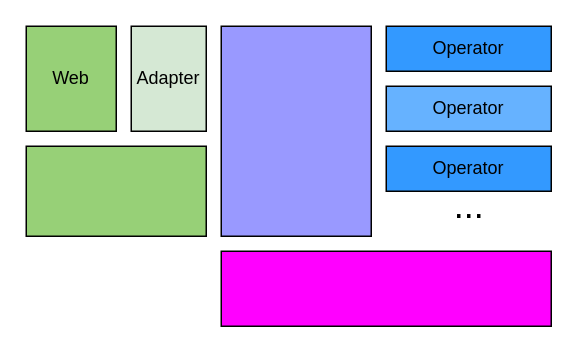
The diagram is 578 pixels wide and 353 high, and some of its shapes have lost their labels. The shapes that lost their labels are listed below. From the top down, each one's centre as x and y in pixels, then its label:
At pixel 295 130: "API SERVER".
At pixel 115 190: "CLI".
At pixel 385 288: "ETCD".
